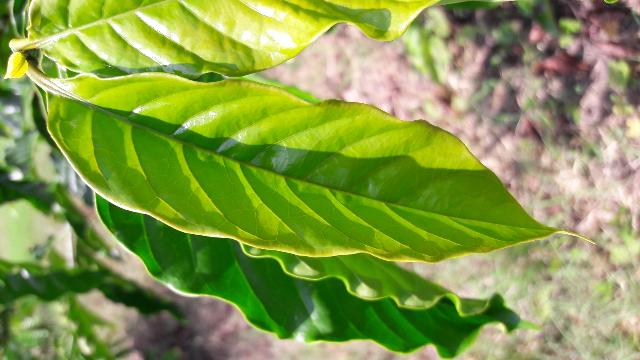healthy: (46, 70, 592, 261)
